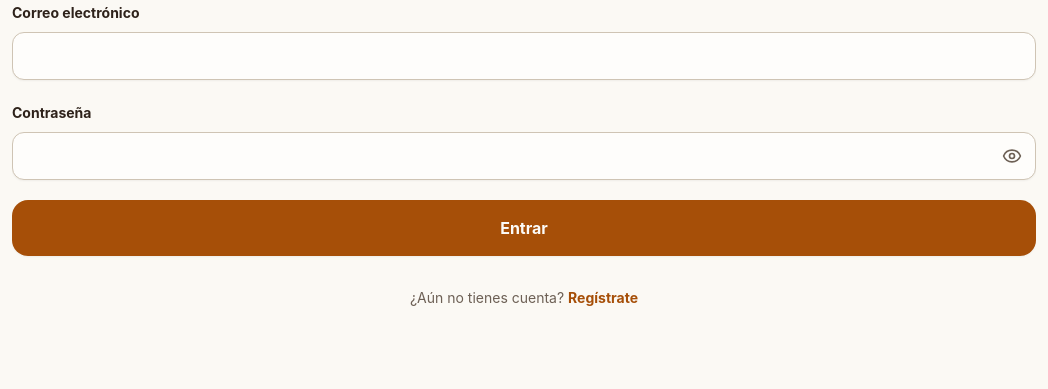
Test: LoginForm › informa cuando las credenciales son incorrectas
This screenshot has width=1048, height=389.
In the field labelled "Correo electrónico": coordinates (524, 56) top-left (12, 32), bottom-right (1036, 80), type "carlos@example.com"
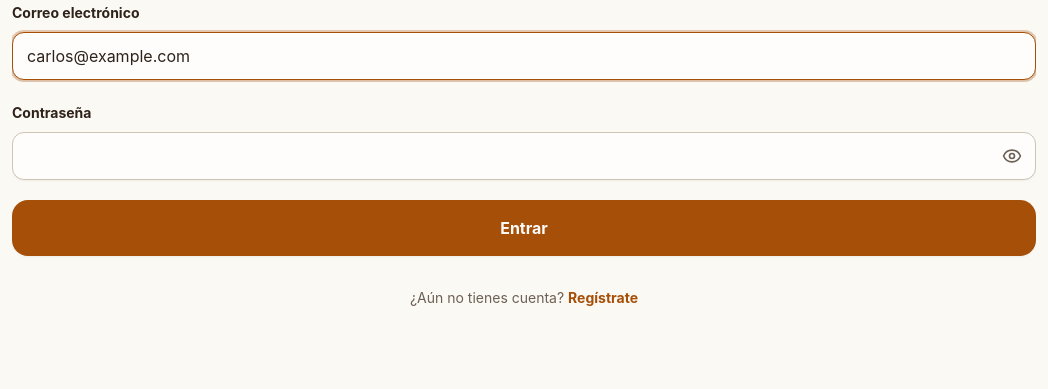
In the password field labelled "Contraseña": coordinates (524, 156) top-left (12, 132), bottom-right (1036, 180), type "incorrecta"
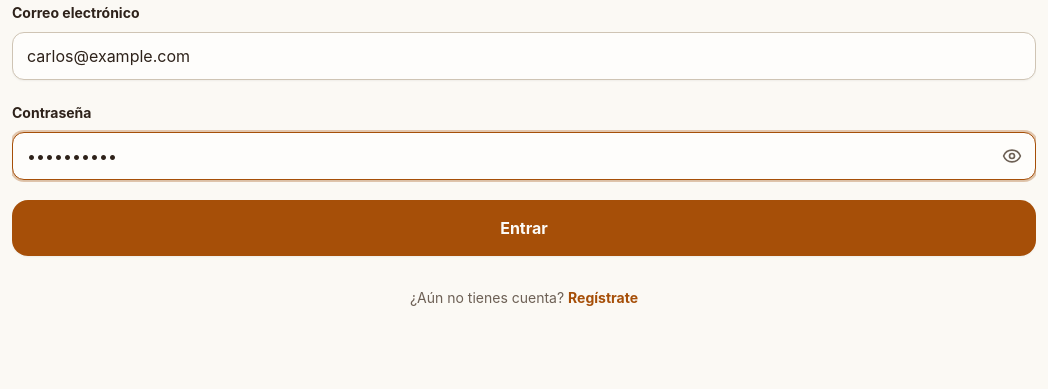
Click the button "Entrar": coordinates (524, 228) top-left (12, 200), bottom-right (1036, 256)
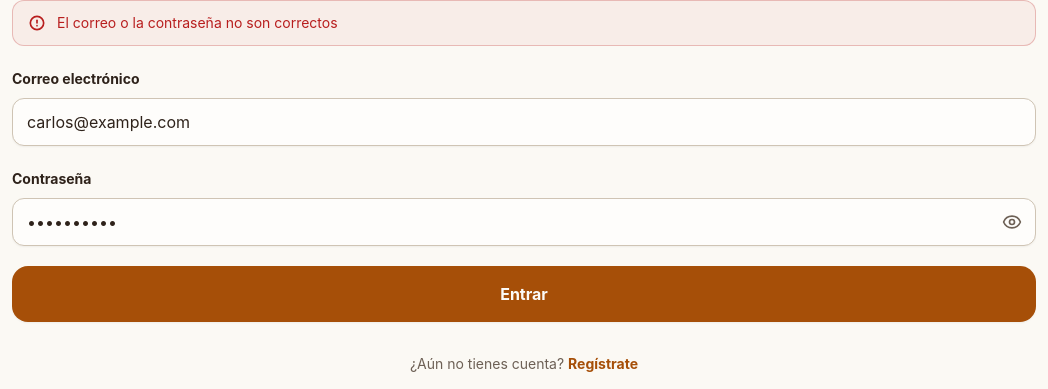
Result: the text "El correo o la contraseña no son correctos" is shown at top-left (57, 13), bottom-right (338, 33)
